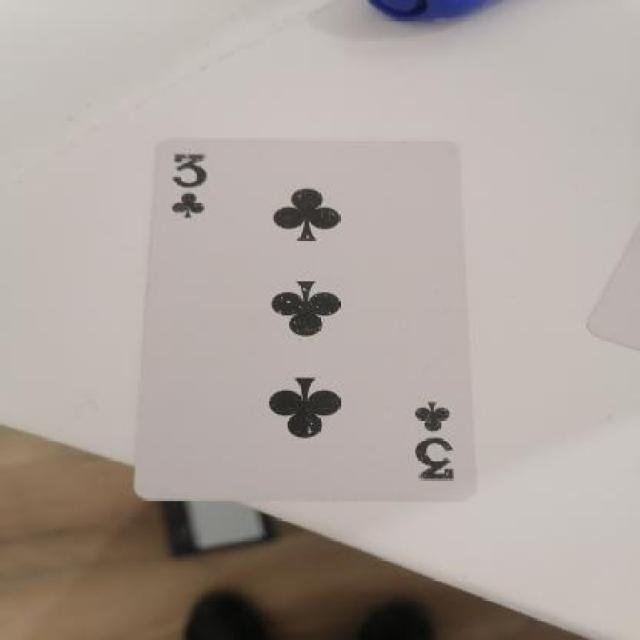3C: (400, 394, 468, 498), (167, 148, 224, 227)
